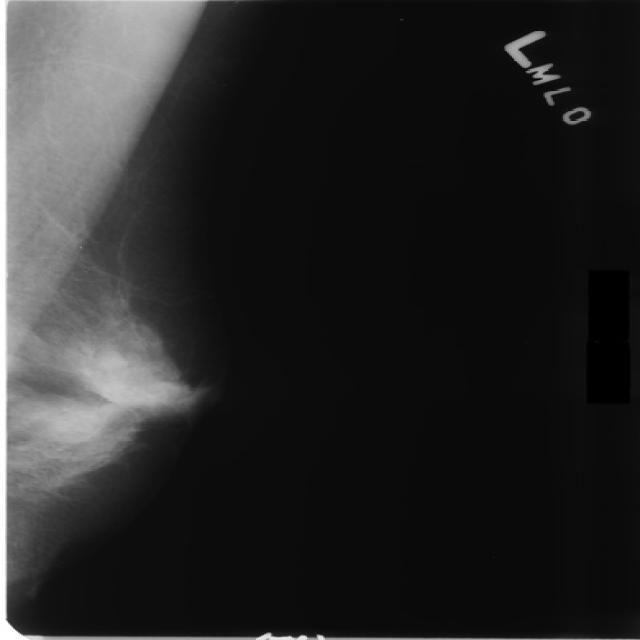tumour: (76, 350, 170, 406)
